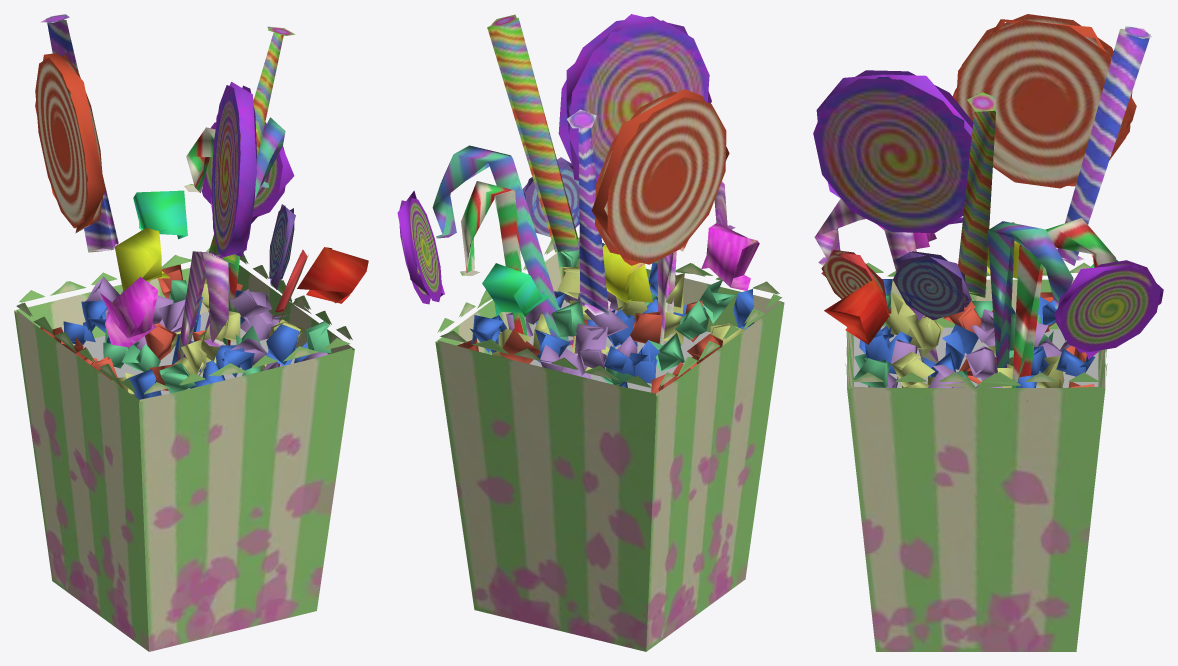
The model's file is decorLarge-candy-27.glb.
3 views of the same model, side by side, from view 1: azimuth 30°, elevation 25°; view 2: azimuth 150°, elevation 25°; view 3: azimuth 270°, elevation 25° (orthographic). The views are drawn at different scales.
Visible parts, largest first — view 1: piece; view 2: piece; view 3: piece.
Boxes of the visible parts, <box> form: piece: <box>14,14,368,651</box>; piece: <box>397,14,784,651</box>; piece: <box>813,14,1163,651</box>.
Size of the model in its own units: 0.0766 by 0.1546 by 0.0875.
Materials: 1 (1 with a texture image).
